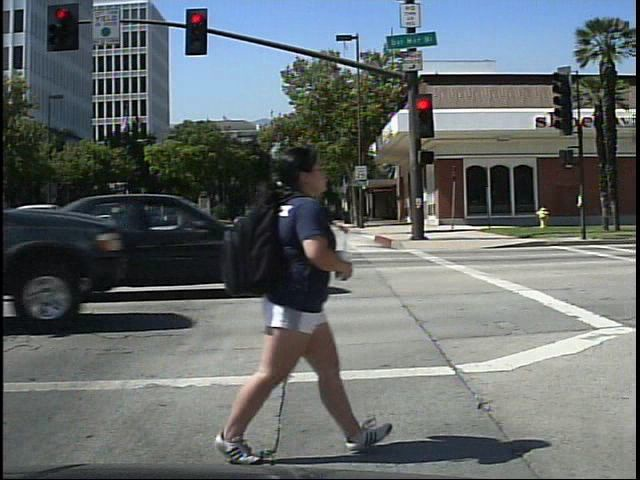person: (222, 130, 360, 467)
